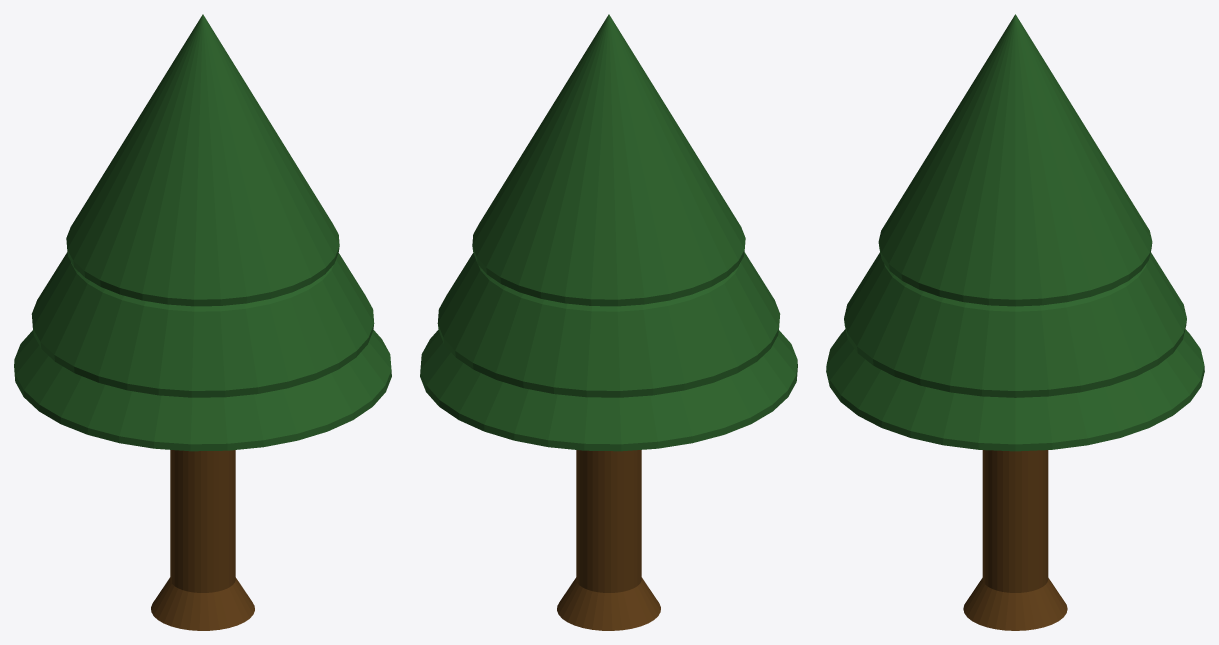
File: Tree - Medium - 1x2.5.glb
The picture shows the model from 3 angles, left to right: view 1: azimuth 30°, elevation 25°; view 2: azimuth 150°, elevation 25°; view 3: azimuth 270°, elevation 25°; orthographic projection.
Visible parts, largest first — view 1: Tree - Medium - 1x2.5; view 2: Tree - Medium - 1x2.5; view 3: Tree - Medium - 1x2.5.
Boxes of the visible parts, x1=… form: Tree - Medium - 1x2.5: x1=14, y1=14, x2=391, y2=630; Tree - Medium - 1x2.5: x1=420, y1=14, x2=797, y2=630; Tree - Medium - 1x2.5: x1=826, y1=14, x2=1204, y2=630.
Bounding box in the file's own units: 2.88 × 5 × 2.88.
